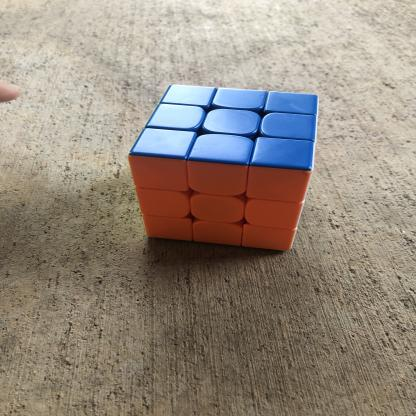SolvedCube: (102, 74, 356, 267)
